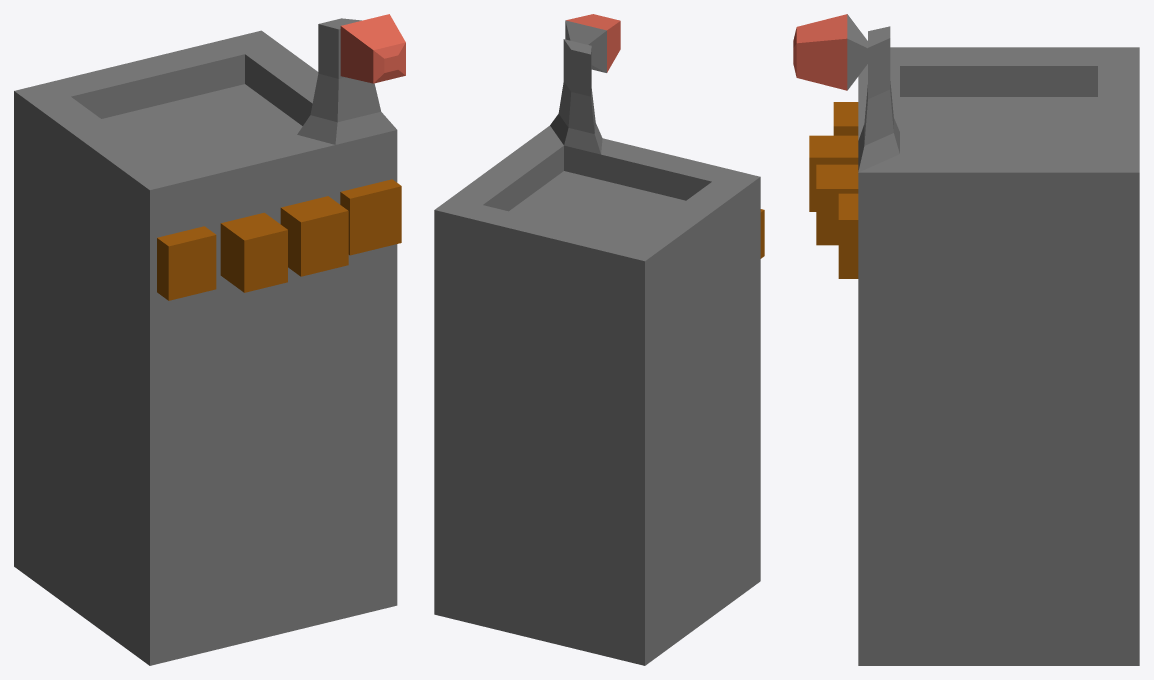
File: struct.fbx
3 renders of one model, left to right at view 1: azimuth 30°, elevation 25°; view 2: azimuth 150°, elevation 25°; view 3: azimuth 270°, elevation 25°, orthographic. The views are drawn at different scales.
Visible parts, largest first — view 1: Plane; view 2: Plane; view 3: Plane.
Boxes of the visible parts, bbox=[...] form: Plane: bbox=[14, 14, 405, 665]; Plane: bbox=[434, 14, 764, 665]; Plane: bbox=[793, 14, 1139, 665].
Bounding box in the file's own units: 160 × 370 × 187.
